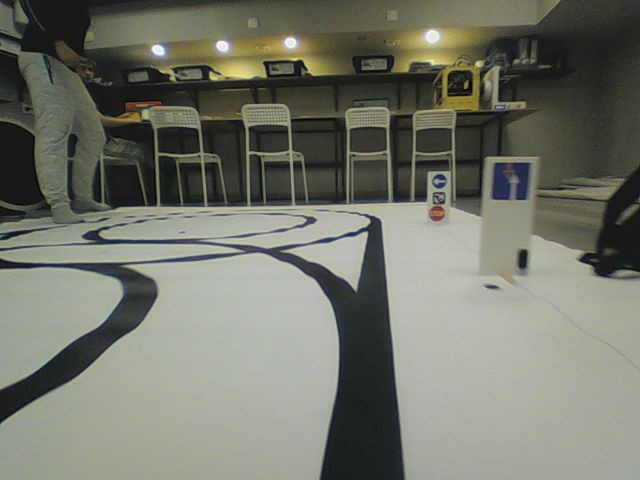Stop: (428, 205, 445, 221)
priority_movement: (489, 159, 532, 203)
